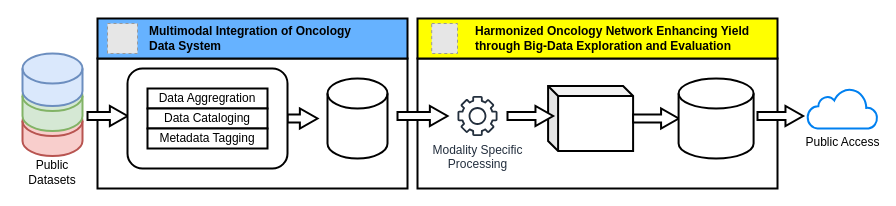
Some shapes in this 896 by 206 pixel diagram are drawn without their labels. Grey dashed boxes stand in for pictures. The shapes that lost their labels are listed below. From the top down, each one's centre as x and y in pixels, then its label:
At (x=357, y=118): "Curated Cohort Dataset".
At (x=590, y=118): "Pretrained Models".
At (x=715, y=118): "Embedding Dataset".
